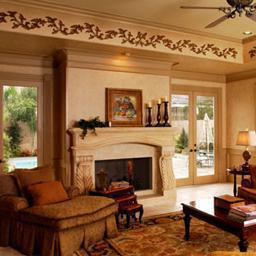Puerta: (174, 87, 220, 178)
Ventana: (1, 78, 43, 168)
